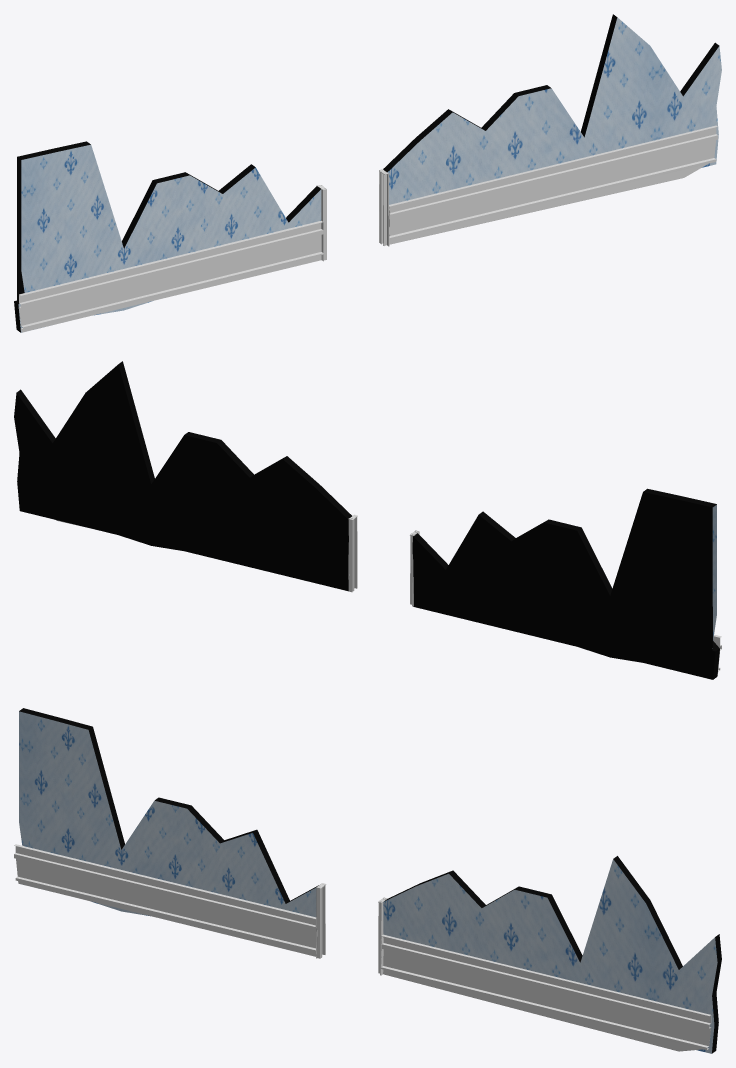
File: bedroom_walls_dooropening.glb
3 views of the same model, one above another, from view 1: azimuth 30°, elevation 25°; view 2: azimuth 150°, elevation 25°; view 3: azimuth 330°, elevation 25° (orthographic).
Parts seen in each view (by area): view 1: floor.010, floor.011; view 2: floor.010, floor.011; view 3: floor.010, floor.011.
Part boxes in pixels (left/top/right/bottom): floor.010: left=379, top=14, right=721, bottom=246; floor.011: left=14, top=141, right=326, bottom=332; floor.010: left=14, top=361, right=357, bottom=592; floor.011: left=410, top=488, right=721, bottom=679; floor.010: left=378, top=856, right=721, bottom=1053; floor.011: left=14, top=708, right=326, bottom=958.
Size of the model in its own units: 32.99 by 8.01 by 0.6237.
3 materials, 1 textured.
